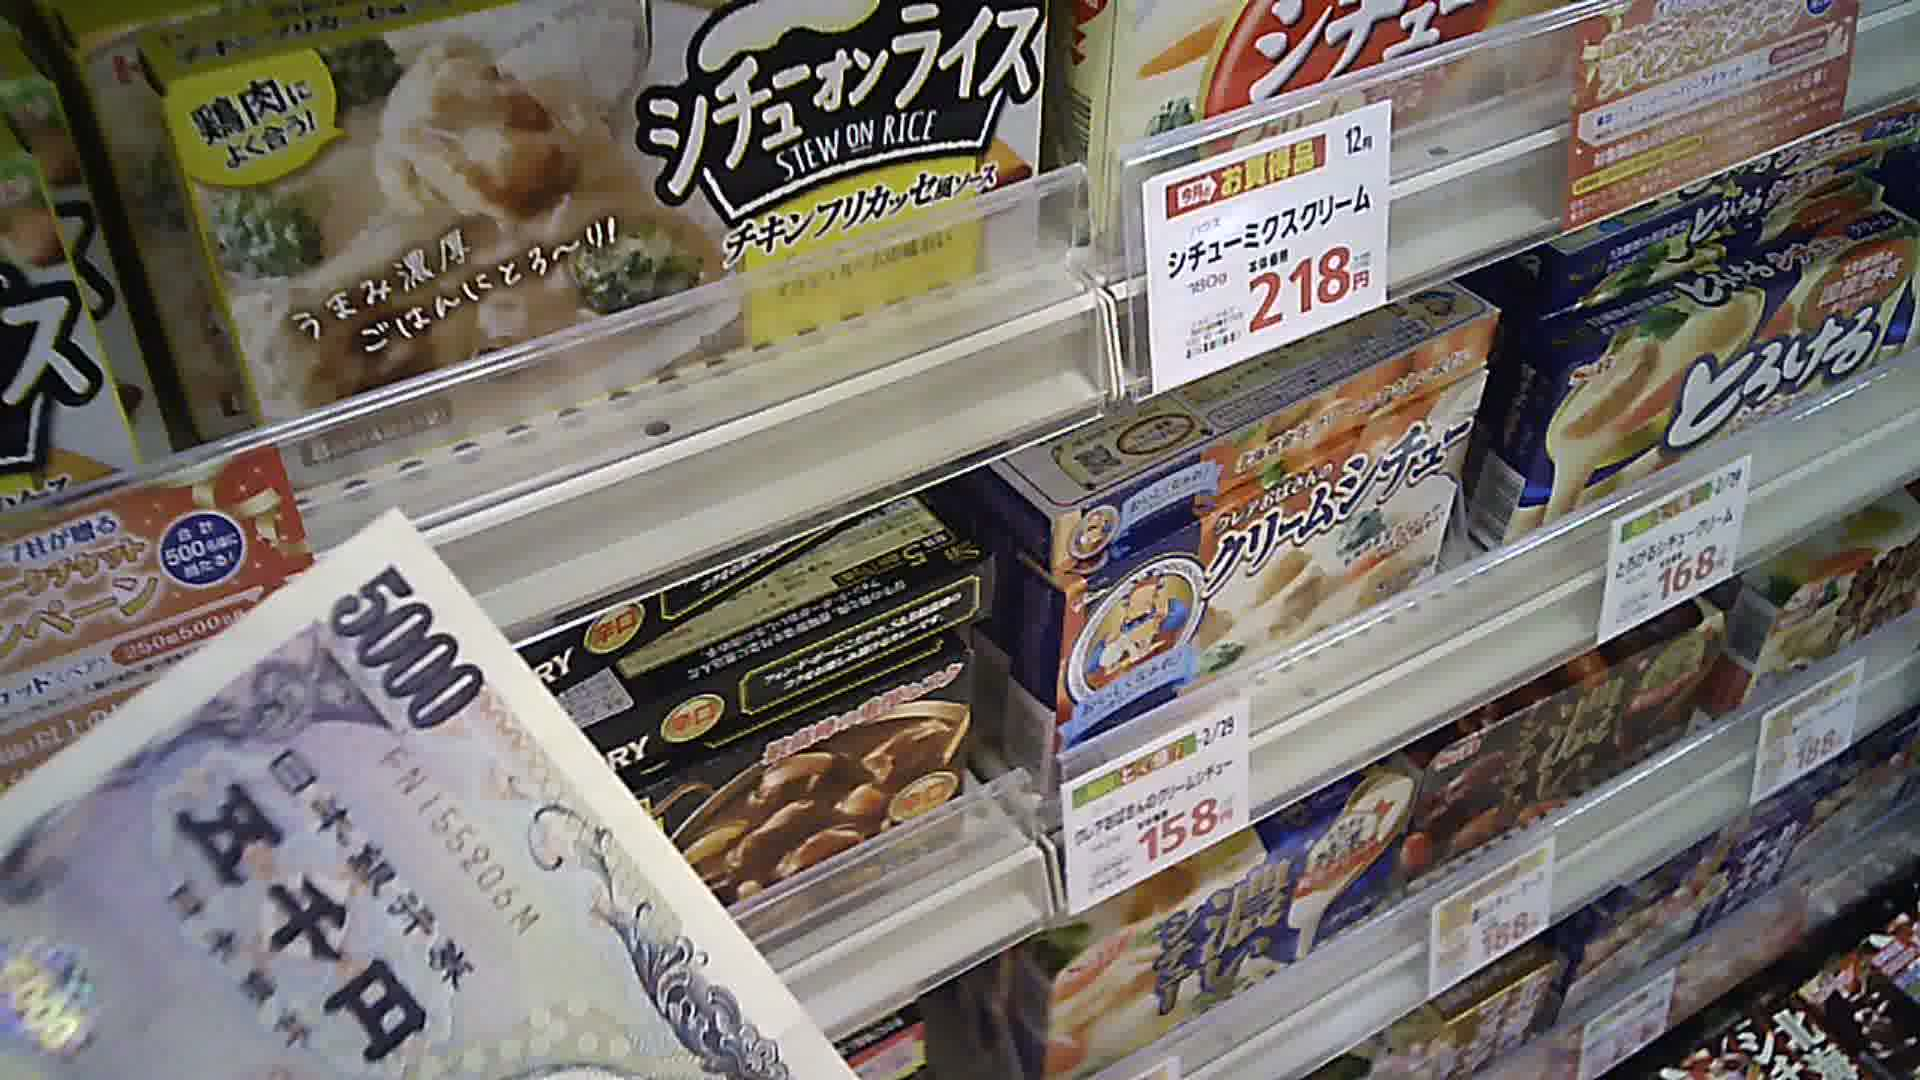5,000 Yen: (1, 479, 847, 1069)
